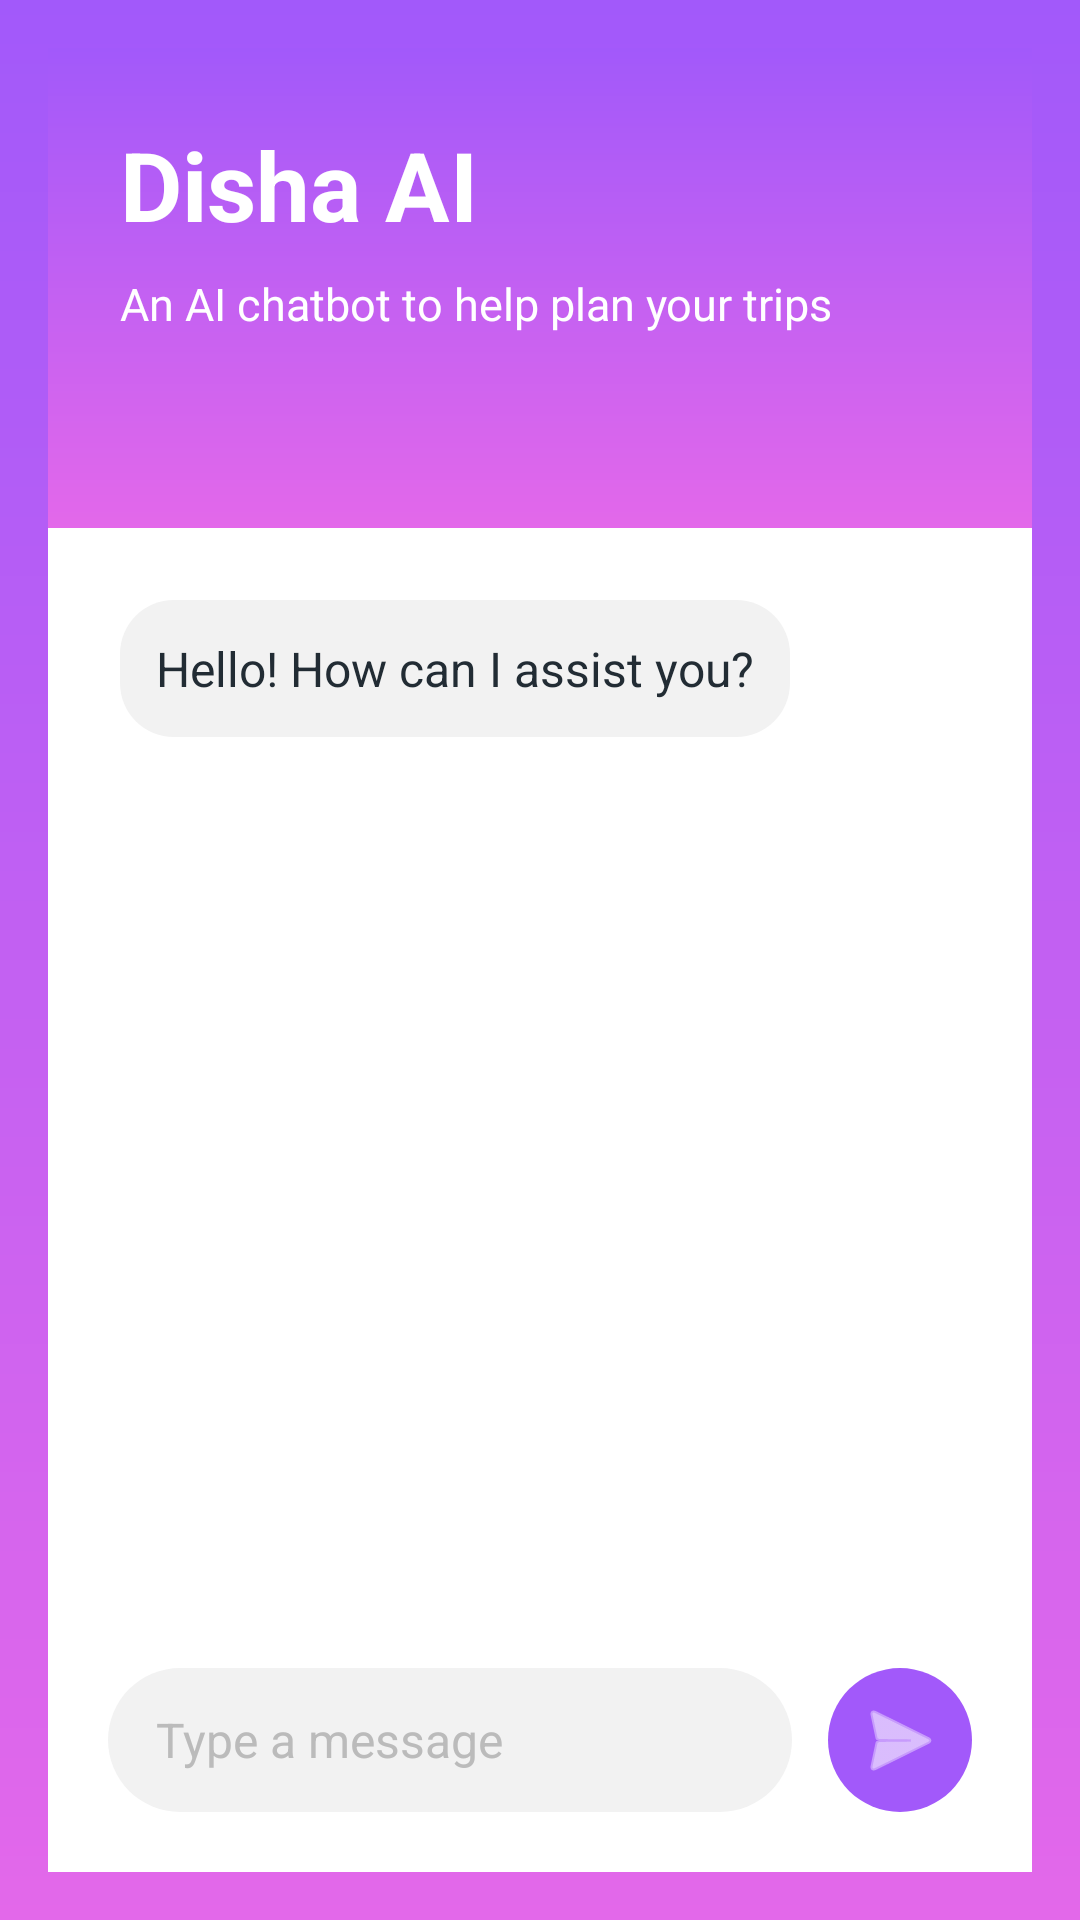

Locate icon controls on the screen. Image size 1080×1920, boxes as rect(x1, y1, x2, y2).
send: rect(828, 1668, 972, 1812)
